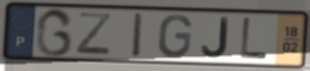G: (34, 6, 75, 59), (157, 14, 194, 60)
I: (131, 11, 145, 59)
J: (200, 16, 230, 60)
L: (239, 17, 270, 62)
Z: (74, 11, 113, 57)
